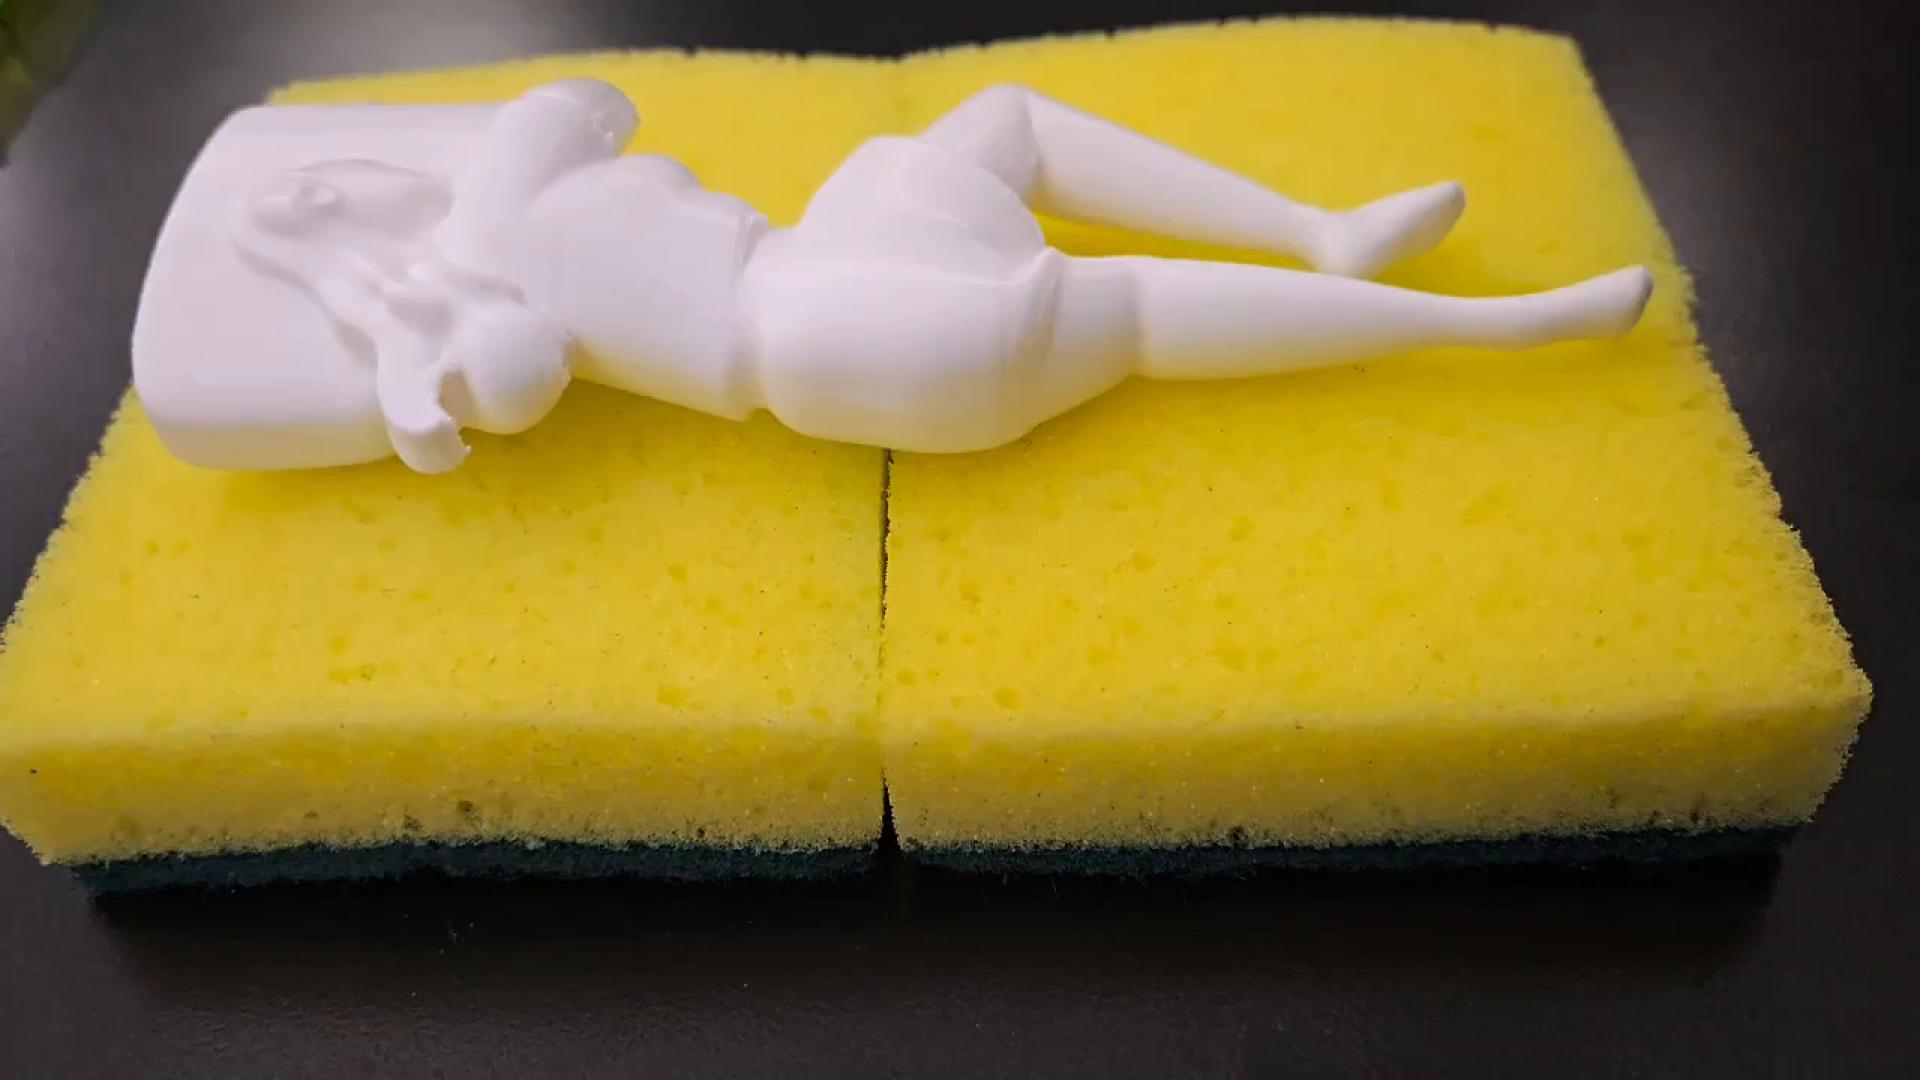Good-style: (71, 66, 1709, 582)
